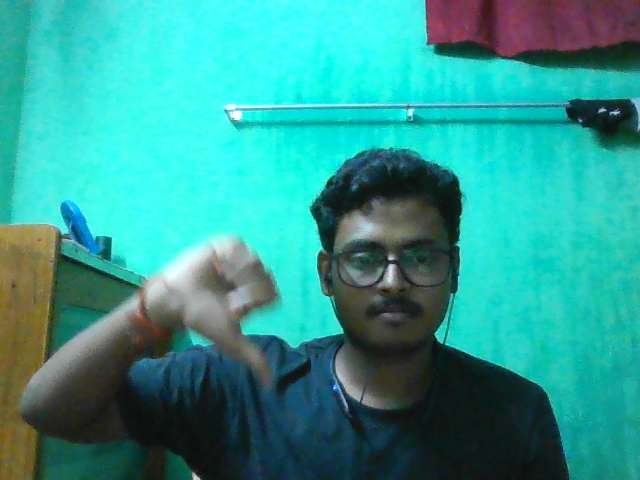ThumbsDown: (142, 229, 284, 387)
